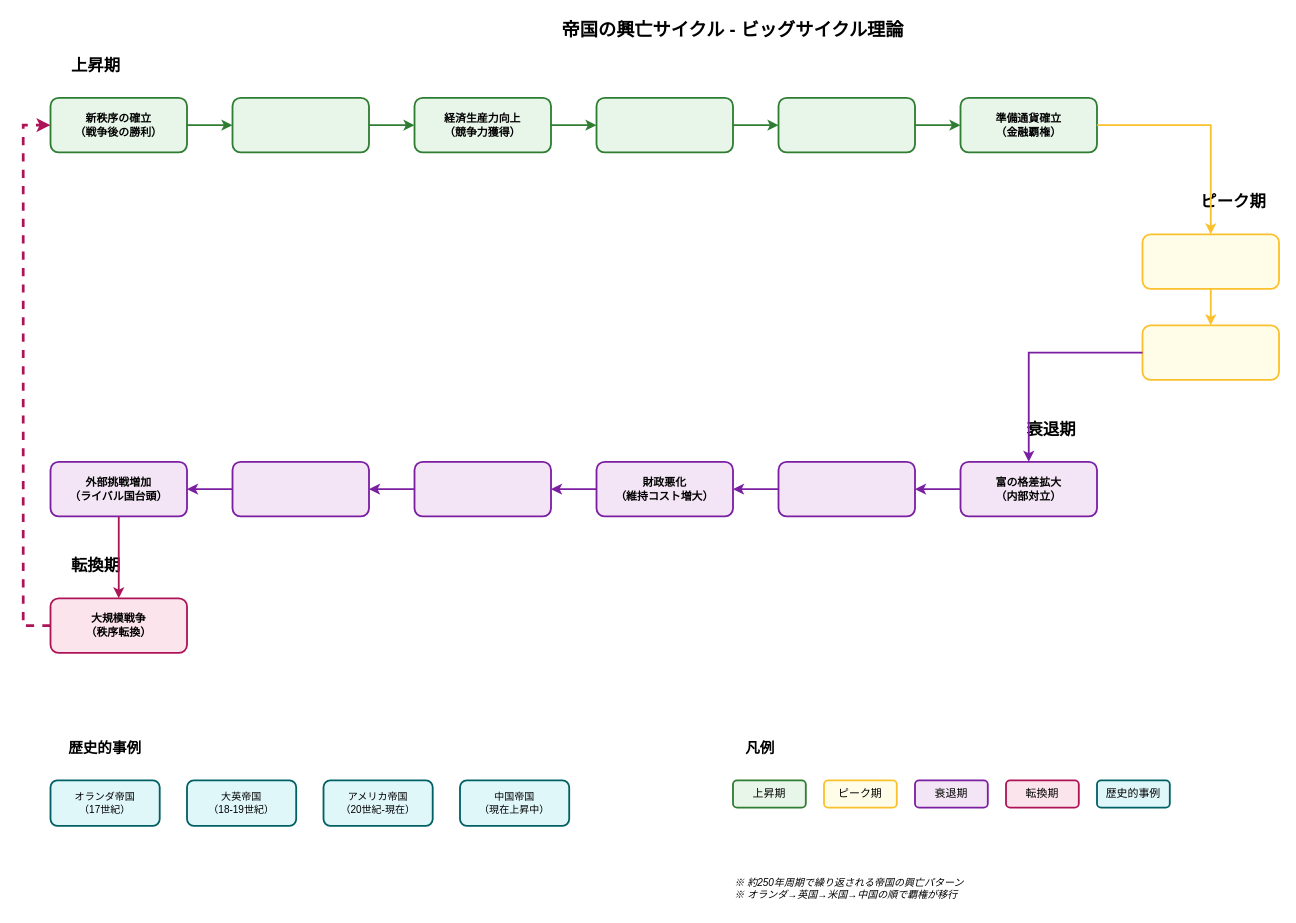
Image size: 1296x923. Some labels were removed from this diagram. The box of each missing label's shape, as (x1, y1, x2, y2) in pixels:
世界貿易拡大 （グローバル化）: (595, 96, 733, 153)
借入れ増加 （金融バブル）: (1141, 324, 1279, 380)
内部紛争激化 （革命・内戦）: (231, 460, 369, 517)
平和と繁栄 （黄金時代）: (1141, 233, 1279, 289)
教育・技術革新 （人材育成）: (231, 96, 369, 153)
競争力低下 （他国の追い上げ）: (777, 460, 915, 517)
軍事力強化 （利益保護）: (777, 96, 915, 153)
通貨印刷 （債務不履行回避）: (413, 460, 551, 517)
